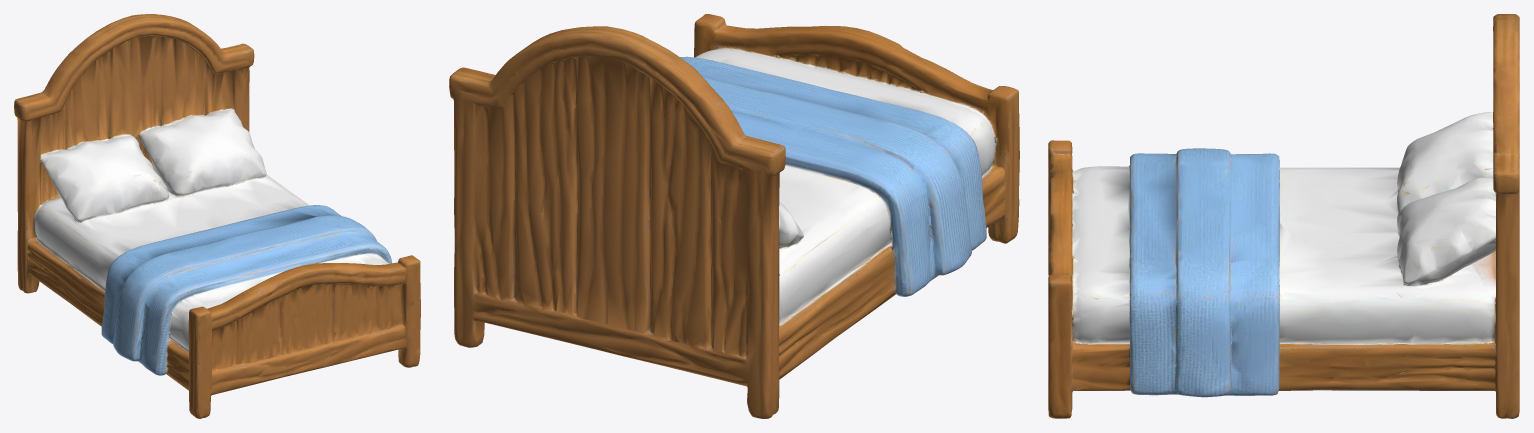
File: bed.glb
3 views of the same model, side by side, from view 1: azimuth 30°, elevation 25°; view 2: azimuth 150°, elevation 25°; view 3: azimuth 270°, elevation 25° (orthographic). The views are drawn at different scales.
Visible parts, largest first — view 1: Mesh_0; view 2: Mesh_0; view 3: Mesh_0.
Boxes of the visible parts, bbox=[...] form: Mesh_0: bbox=[14, 14, 420, 418]; Mesh_0: bbox=[449, 14, 1019, 418]; Mesh_0: bbox=[1048, 14, 1519, 418].
Size of the model in its own units: 1.6 by 1.44 by 1.91.
1 material, 1 textured.
